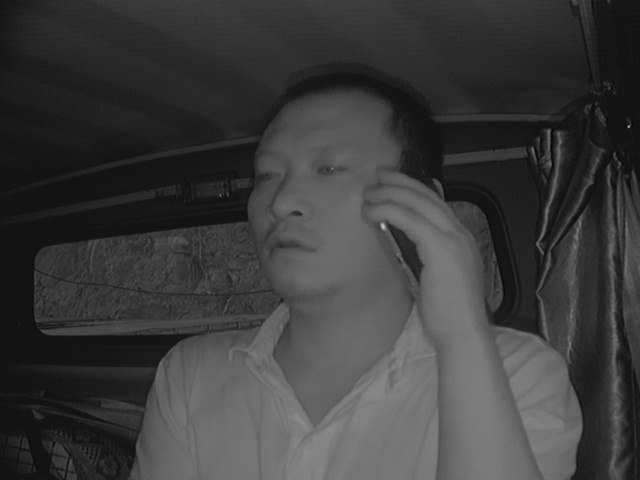hand: (368, 170, 472, 311)
